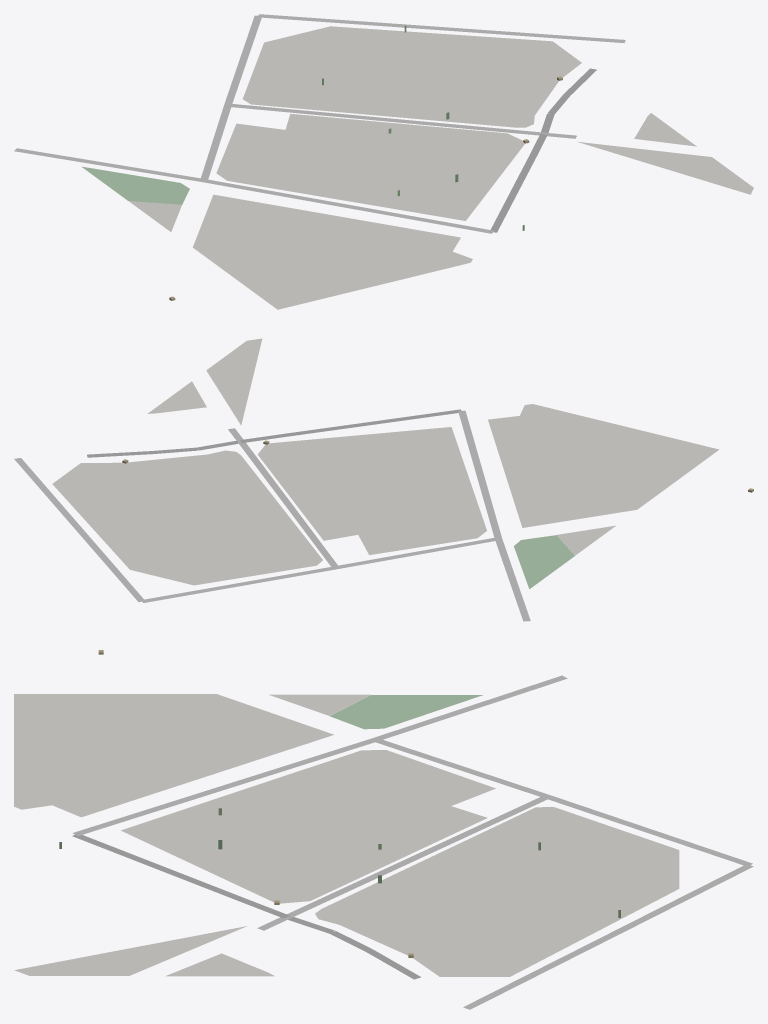
3 renders of one model, top to bottom at view 1: azimuth 30°, elevation 25°; view 2: azimuth 150°, elevation 25°; view 3: azimuth 270°, elevation 25°, orthographic. The views are drawn at different scales.
Size of the model in its own units: 632 by 9.52 by 556.
